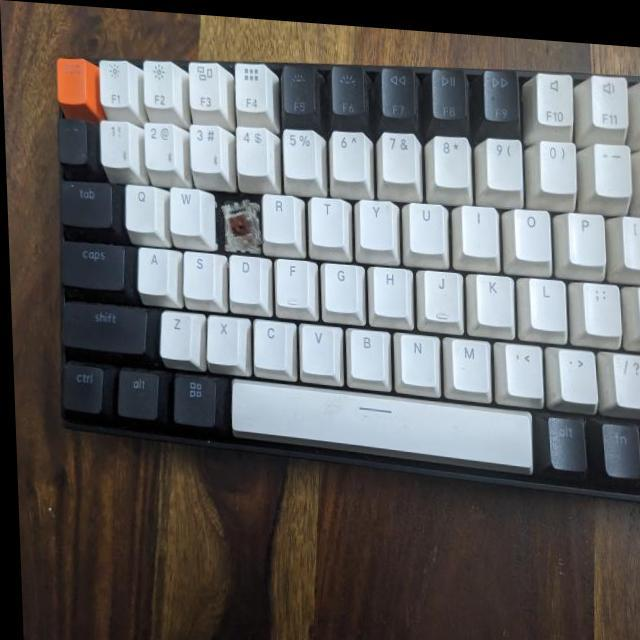key-switch: (222, 192, 261, 247)
